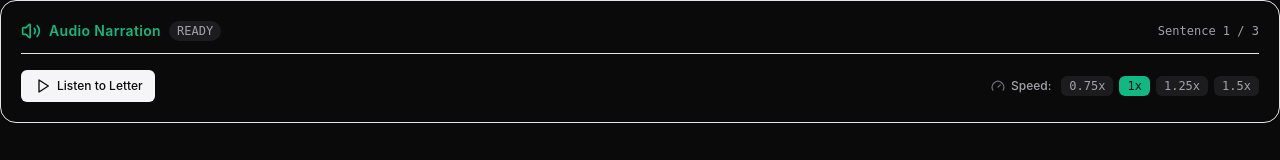
Scenario: TTSPlayer Component › handles play toggle to play, pause, and resume
Note: Click Play
Step 1. Click the button with aria-label "Play reading letter aloud" → click(88, 86), box [21,70,155,102]
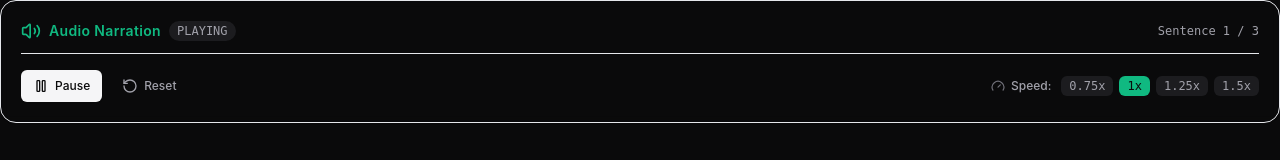
Expected: the button with aria-label "Pause reading letter" is shown
Expected: the text "Playing" is shown, [169,21,236,41]
Note: Click Pause
Step 2. Click the button with aria-label "Pause reading letter" → click(62, 86), box [21,70,102,102]
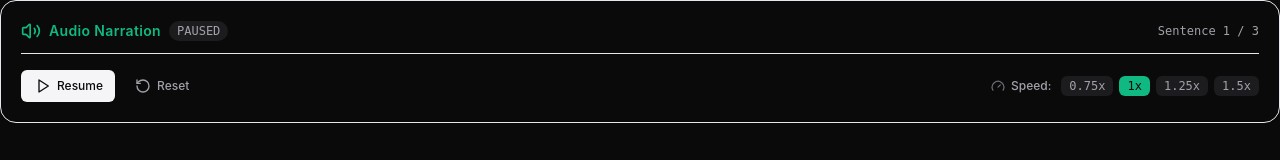
Expected: the text "Paused" is shown, [169,21,228,41]
Expected: the button with aria-label "Play reading letter aloud" reads "Resume"
Note: Click Resume
Step 3. Click the button with aria-label "Play reading letter aloud" → click(68, 86), box [21,70,115,102]
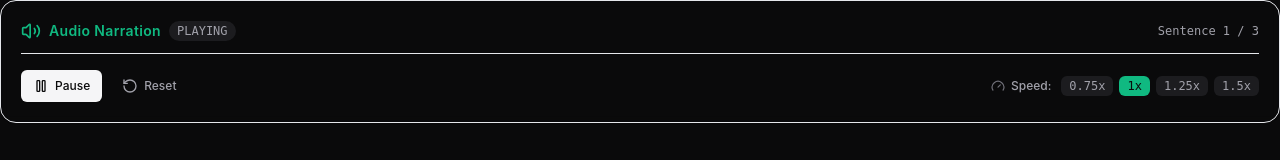
Expected: the text "Playing" is shown, [169,21,236,41]
